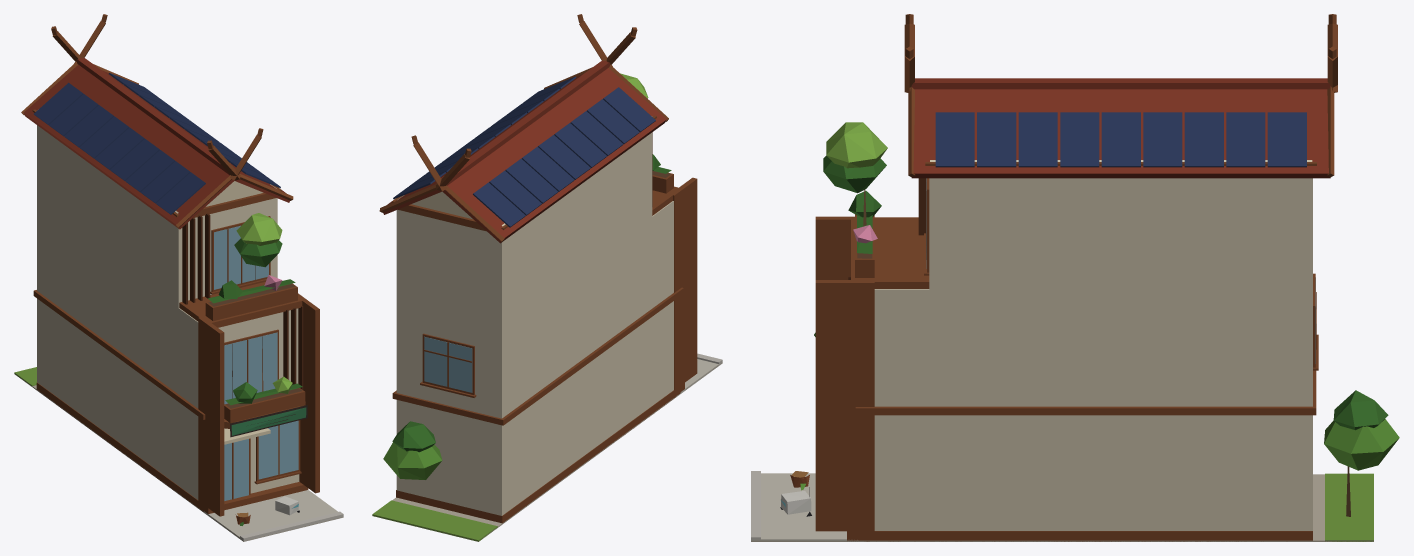
The model's file is bay1_mid2.glb.
3 renders of one model, left to right at view 1: azimuth 30°, elevation 25°; view 2: azimuth 150°, elevation 25°; view 3: azimuth 270°, elevation 25°, orthographic. The views are drawn at different scales.
Parts seen in each view (by area): view 1: body; view 2: body; view 3: body.
Boxes of the visible parts, left/top/right/bottom form: body: left=14, top=14, right=343, bottom=541; body: left=372, top=14, right=722, bottom=541; body: left=751, top=14, right=1399, bottom=541.
Bounding box in the file's own units: 4.7 × 13.84 × 16.56.
